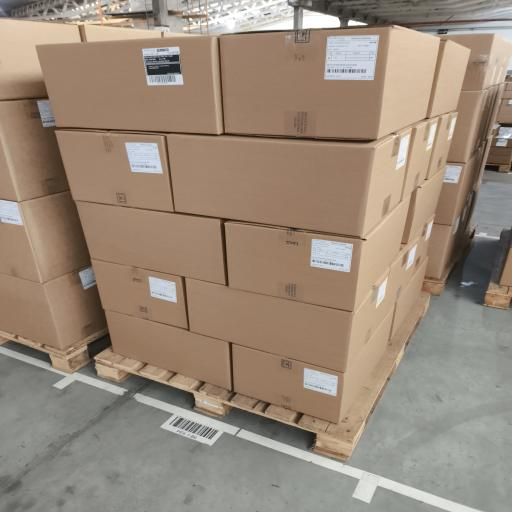pallet: (95, 292, 430, 460), (0, 328, 109, 373), (423, 224, 477, 295), (484, 230, 511, 309), (486, 162, 510, 172)
